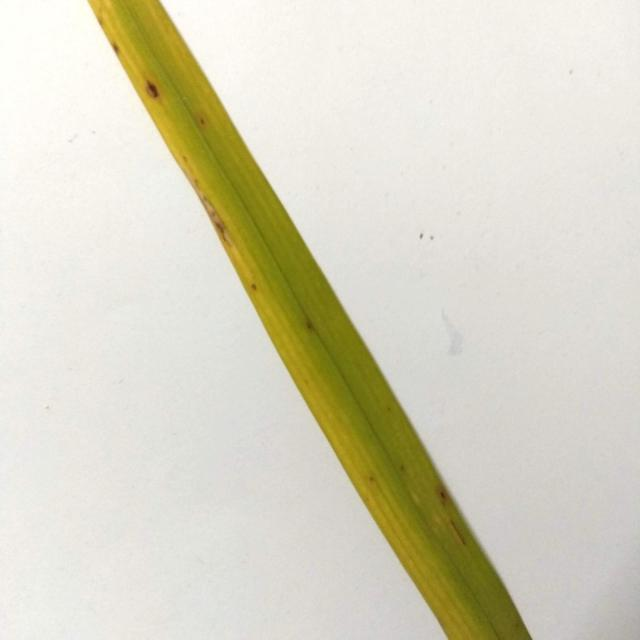Brown spot: (76, 0, 536, 640)
